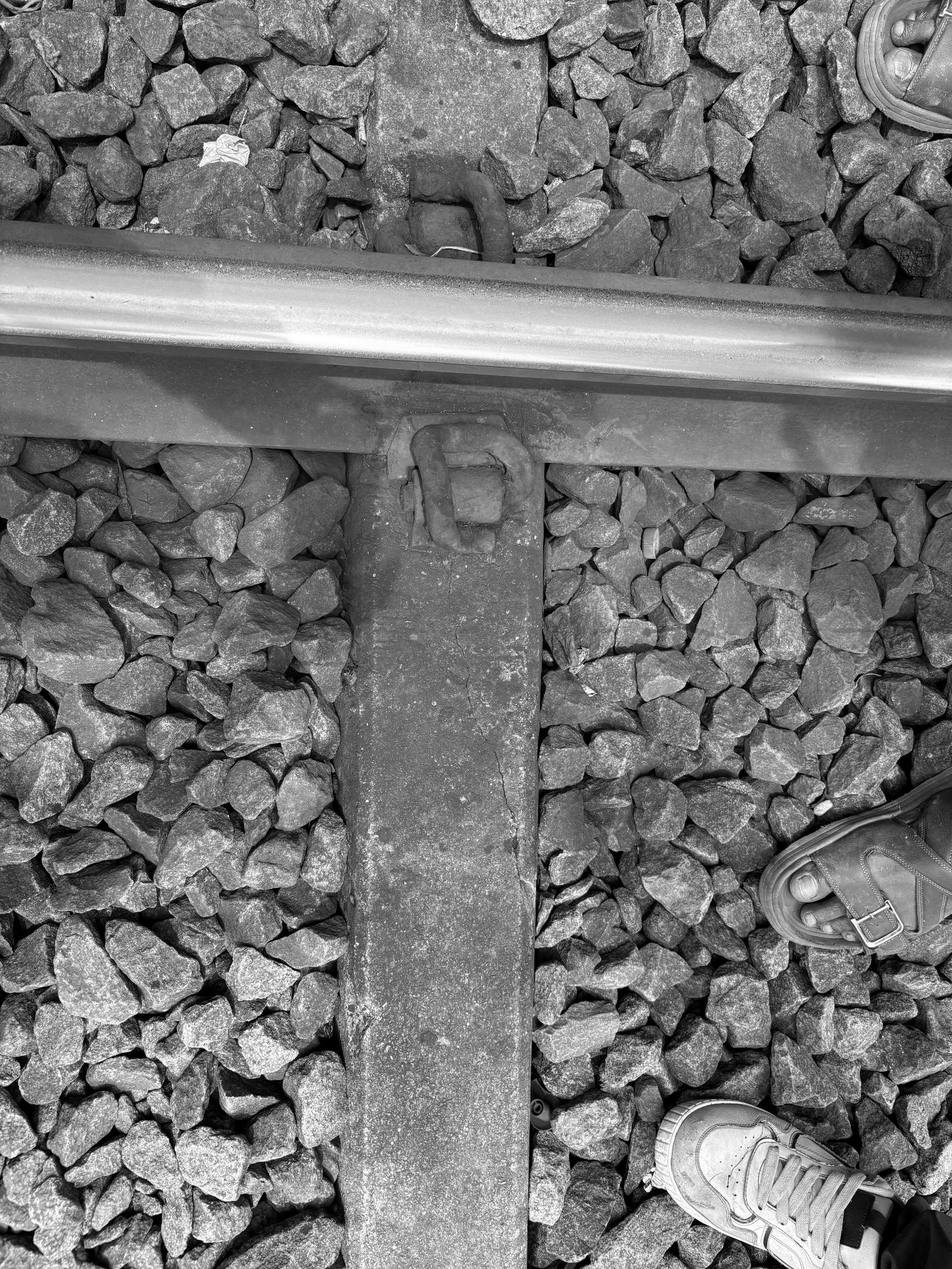cracks under rail seat: (420, 541, 562, 964)
